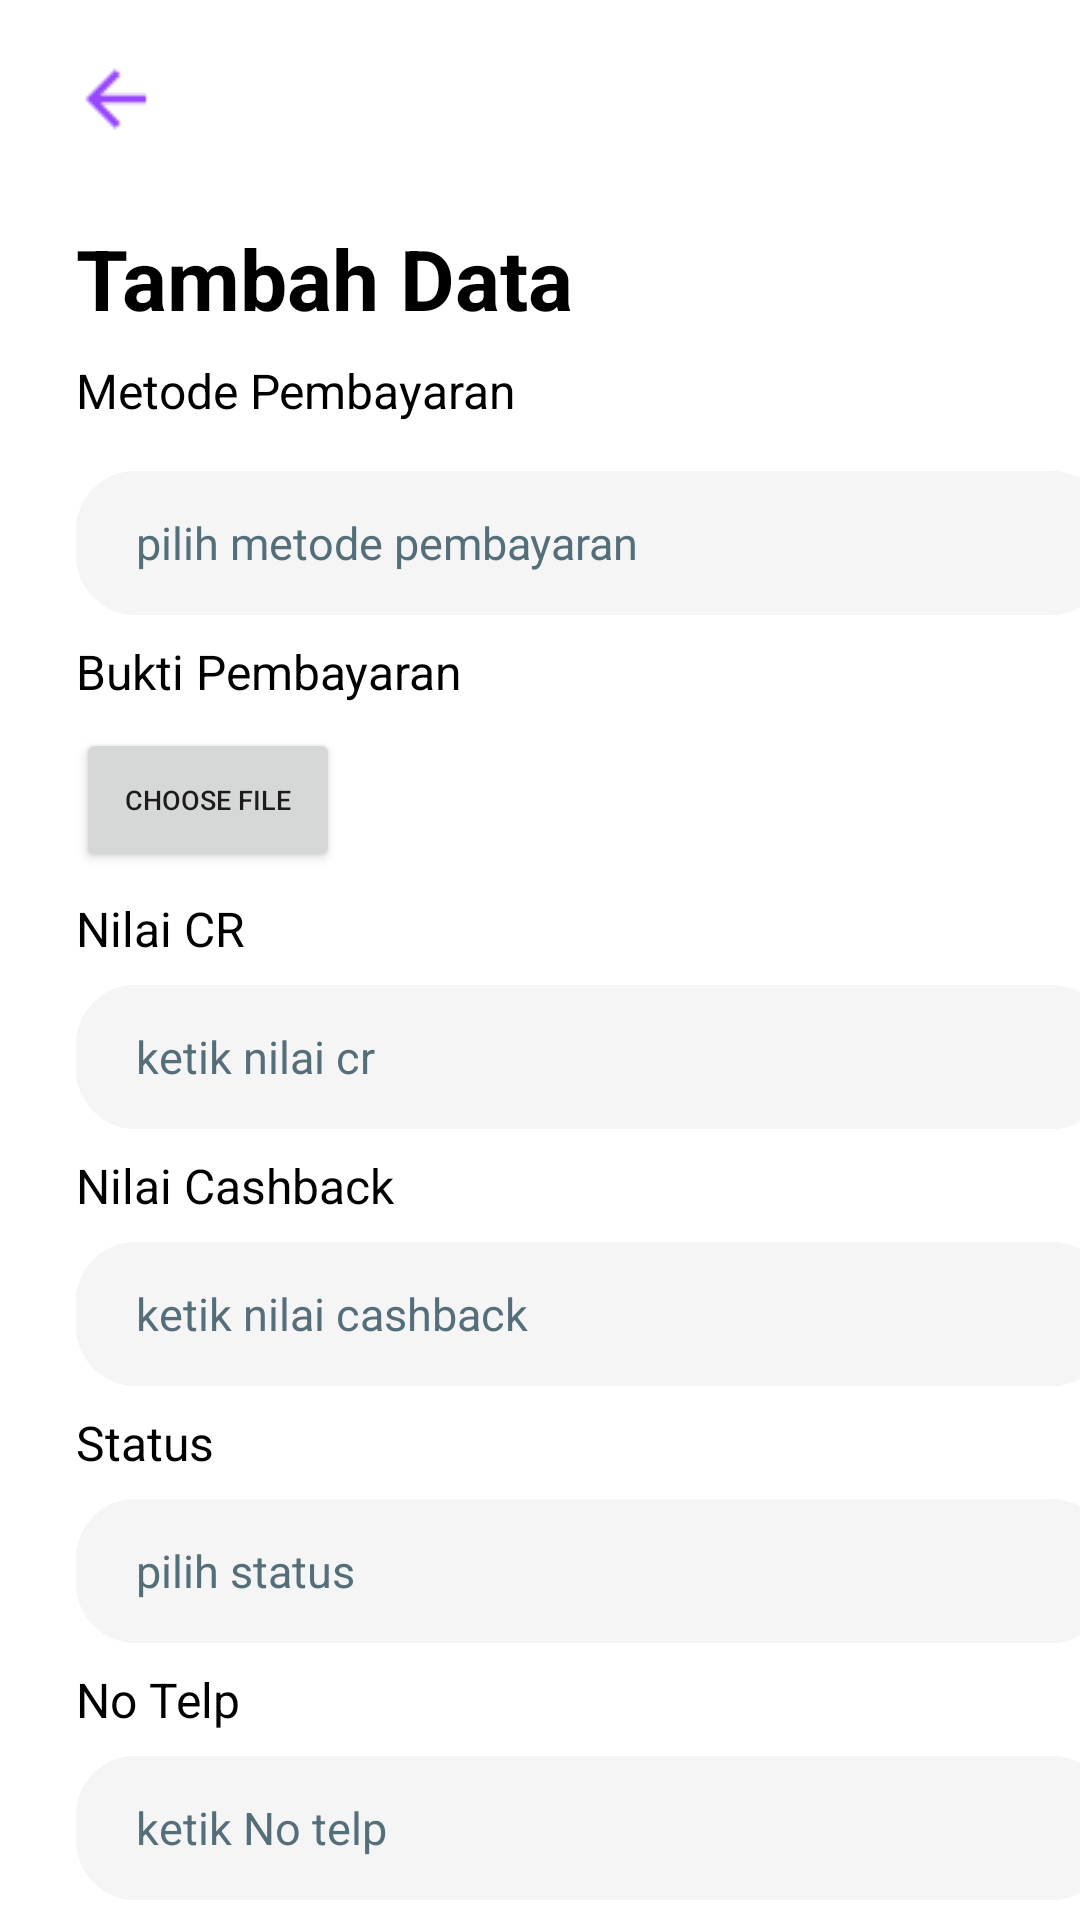

Where to tap for icons on this 1080x1920 app screen, as [x,y]:
arrow left: [116,99]
